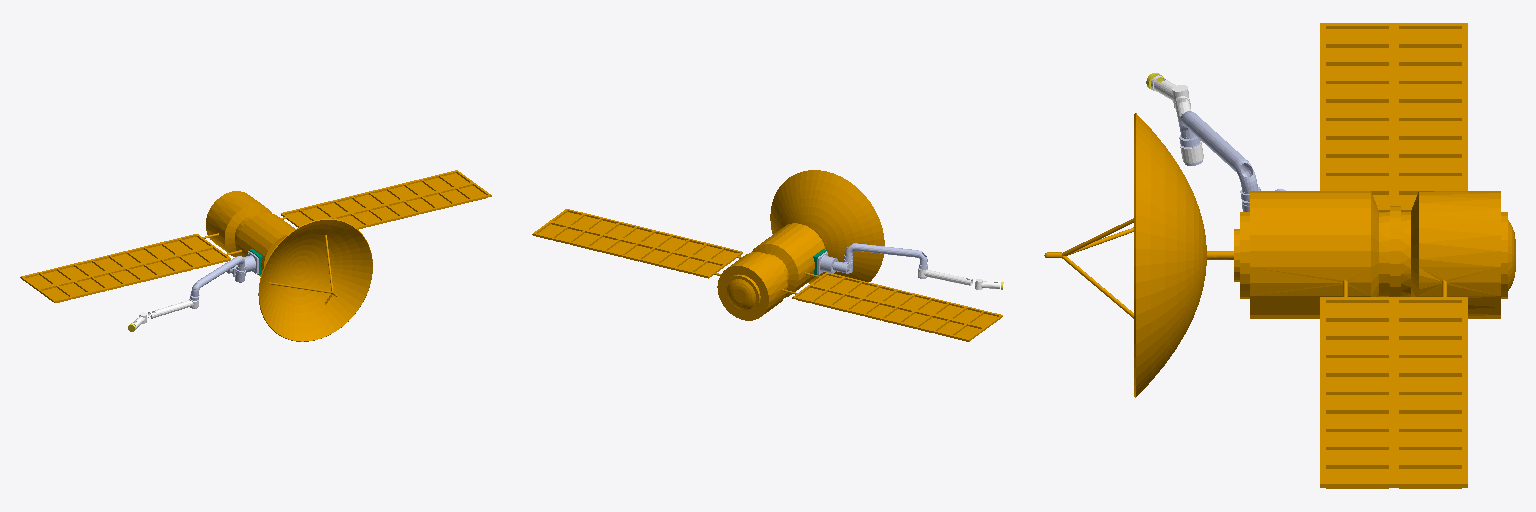
The robot description file, URDF, robot "satellite_14__starlink_sldasm9":
<?xml version='1.0' encoding='utf-8'?>
<robot name="satellite_14__starlink_sldasm9">
  <link name="base_link">
    <visual>
      <geometry>
        <mesh filename="../satellites/satellite_14/satellite.stl" />
      </geometry>
    </visual>
    <collision>
      <geometry>
        <mesh filename="../satellites/satellite_14/satellite.stl" />
      </geometry>
    </collision>
  </link>
  <link name="satellite_14_mount" />
  <joint name="satellite_mount_fixed" type="fixed">
    <parent link="base_link" />
    <child link="satellite_14_mount" />
    <origin xyz="-0.47098720948629275 -0.2859545646737885 0.0007778720686670624" rpy="0.005423569964189135 -1.5707963267948966 0.0" />
  </joint>
  <link name="mount_support">
    <visual>
      <geometry>
        <mesh filename="../satellites/satellite_14/mount_support.stl" />
      </geometry>
    </visual>
    <collision>
      <geometry>
        <mesh filename="../satellites/satellite_14/mount_support.stl" />
      </geometry>
    </collision>
  </link>
  <joint name="support_fixed" type="fixed">
    <parent link="satellite_14_mount" />
    <child link="mount_support" />
    <origin xyz="0 0 0" rpy="0 0 0" />
  </joint>
  <joint name="arm_adapter_fixed" type="fixed">
    <parent link="satellite_14_mount" />
    <child link="starlink_space_manipulator_base_link" />
    <origin xyz="0.009087204933166504 0.008519247174263 0.16000000119209298" rpy="-1.5707963267948966 0 0.0" />
  </joint>
  <link name="starlink_space_manipulator_base_link">
    <inertial>
      <origin xyz="-0.00908719924946466 0.0225428225681148 -0.00851924929637313" rpy="0 0 0" />
      <mass value="8.66024015898073" />
      <inertia ixx="0.0960303512697639" ixy="1.65511904636803E-18" ixz="6.22039820639877E-19" iyy="0.103454922260914" iyz="-9.68471289978311E-19" izz="0.0960303512697639" />
    </inertial>
    <visual>
      <origin xyz="0 0 0" rpy="0 0 0" />
      <geometry>
        <mesh filename="../arms/starlink_sldasm9/meshes/starlink_space_manipulator_base_link.STL" />
      </geometry>
      <material name="">
        <color rgba="0.792156862745098 0.819607843137255 0.933333333333333 1" />
      </material>
    </visual>
    <collision>
      <origin xyz="0 0 0" rpy="0 0 0" />
      <geometry>
        <mesh filename="../arms/starlink_sldasm9/meshes/starlink_space_manipulator_base_link.STL" />
      </geometry>
    </collision>
  </link>
  <link name="starlink_space_manipulator_Shoulder_link_1">
    <inertial>
      <origin xyz="-0.000399471745595769 -0.100006574194712 -0.17423940484461" rpy="0 0 0" />
      <mass value="5.16309216784981" />
      <inertia ixx="0.0524543852135592" ixy="0.00348154867667969" ixz="6.96526910910627E-05" iyy="0.0306595326318824" iyz="-0.00056674368052247" izz="0.0439979075615329" />
    </inertial>
    <visual>
      <origin xyz="0 0 0" rpy="0 0 0" />
      <geometry>
        <mesh filename="../arms/starlink_sldasm9/meshes/starlink_space_manipulator_Shoulder_link_1.STL" />
      </geometry>
      <material name="">
        <color rgba="0.792156862745098 0.819607843137255 0.933333333333333 1" />
      </material>
    </visual>
    <collision>
      <origin xyz="0 0 0" rpy="0 0 0" />
      <geometry>
        <mesh filename="../arms/starlink_sldasm9/meshes/starlink_space_manipulator_Shoulder_link_1.STL" />
      </geometry>
    </collision>
  </link>
  <joint name="starlink_space_manipulator_Shoulder_link_1_yaw" type="revolute">
    <origin xyz="-0.0090872 -0.065 -0.0085192" rpy="1.5708 -0.15574 3.1416" />
    <parent link="starlink_space_manipulator_base_link" />
    <child link="starlink_space_manipulator_Shoulder_link_1" />
    <axis xyz="0 0 -1" />
    <limit lower="-3.14" upper="3.14" effort="0" velocity="0" />
  </joint>
  <link name="starlink_space_manipulator_Upper_arm_Link_1">
    <inertial>
      <origin xyz="0.402106341472203 -0.696465272634528 -0.170177523085579" rpy="0 0 0" />
      <mass value="5.05309869040685" />
      <inertia ixx="0.388719013133801" ixy="0.210155896498943" ixz="9.30829370680679E-08" iyy="0.146049057575642" iyz="1.71830458004218E-07" izz="0.500677708275447" />
    </inertial>
    <visual>
      <origin xyz="0 0 0" rpy="0 0 0" />
      <geometry>
        <mesh filename="../arms/starlink_sldasm9/meshes/starlink_space_manipulator_Upper_arm_Link_1.STL" />
      </geometry>
      <material name="">
        <color rgba="0.792156862745098 0.819607843137255 0.933333333333333 1" />
      </material>
    </visual>
    <collision>
      <origin xyz="0 0 0" rpy="0 0 0" />
      <geometry>
        <mesh filename="../arms/starlink_sldasm9/meshes/starlink_space_manipulator_Upper_arm_Link_1.STL" />
      </geometry>
    </collision>
  </link>
  <joint name="starlink_space_manipulator_Upper_arm_Link_1_roll" type="revolute">
    <origin xyz="0 -0.2 -0.18" rpy="1.5708 0.90646 1.5708" />
    <parent link="starlink_space_manipulator_Shoulder_link_1" />
    <child link="starlink_space_manipulator_Upper_arm_Link_1" />
    <axis xyz="0 0 -1" />
    <limit lower="-2" upper="1.5" effort="0" velocity="0" />
  </joint>
  <link name="starlink_space_manipulator_Mid_arm_Link_1">
    <inertial>
      <origin xyz="-0.000406052776441013 0.317722269561105 0.0155331755135703" rpy="0 0 0" />
      <mass value="1.57635531881168" />
      <inertia ixx="0.133610363618846" ixy="5.33750993405138E-05" ixz="-3.60473795202962E-09" iyy="0.00502119434334708" iyz="-2.514275749911E-05" izz="0.134586018527477" />
    </inertial>
    <visual>
      <origin xyz="0 0 0" rpy="0 0 0" />
      <geometry>
        <mesh filename="../arms/starlink_sldasm9/meshes/starlink_space_manipulator_Mid_arm_Link_1.STL" />
      </geometry>
      <material name="">
        <color rgba="1 1 1 1" />
      </material>
    </visual>
    <collision>
      <origin xyz="0 0 0" rpy="0 0 0" />
      <geometry>
        <mesh filename="../arms/starlink_sldasm9/meshes/starlink_space_manipulator_Mid_arm_Link_1.STL" />
      </geometry>
    </collision>
  </link>
  <joint name="starlink_space_manipulator_Mid_arm_Link_1_roll" type="revolute">
    <origin xyz="0.599999999999673 -1.03923048454122 0" rpy="-3.14159265358979 0 0.828250280535091" />
    <parent link="starlink_space_manipulator_Upper_arm_Link_1" />
    <child link="starlink_space_manipulator_Mid_arm_Link_1" />
    <axis xyz="0 0 -1" />
    <limit lower="-3.14" upper="3.14" effort="0" velocity="0" />
  </joint>
  <link name="starlink_space_manipulator_Upper_wrist_Link_1">
    <inertial>
      <origin xyz="-0.000400003664721815 -0.201565878030355 -0.00216705855311664" rpy="0 0 0" />
      <mass value="0.994770641034713" />
      <inertia ixx="0.00165409639029414" ixy="-7.59103925411082E-06" ixz="-3.17403155320863E-06" iyy="0.00201437937768072" iyz="2.63246464091218E-06" izz="0.00159638838344539" />
    </inertial>
    <visual>
      <origin xyz="0 0 0" rpy="0 0 0" />
      <geometry>
        <mesh filename="../arms/starlink_sldasm9/meshes/starlink_space_manipulator_Upper_wrist_Link_1.STL" />
      </geometry>
      <material name="">
        <color rgba="0.792156862745098 0.819607843137255 0.933333333333333 1" />
      </material>
    </visual>
    <collision>
      <origin xyz="0 0 0" rpy="0 0 0" />
      <geometry>
        <mesh filename="../arms/starlink_sldasm9/meshes/starlink_space_manipulator_Upper_wrist_Link_1.STL" />
      </geometry>
    </collision>
  </link>
  <joint name="starlink_space_manipulator_Upper_wrist_Link_1_yaw" type="revolute">
    <origin xyz="-0.00050155183276912 0.686793643713439 0.0155010481432086" rpy="0 -0.0763876794035917 3.14159265358979" />
    <parent link="starlink_space_manipulator_Mid_arm_Link_1" />
    <child link="starlink_space_manipulator_Upper_wrist_Link_1" />
    <axis xyz="0 -1 0" />
    <limit lower="-3.14" upper="3.14" effort="0" velocity="0" />
  </joint>
  <link name="starlink_space_manipulator_Upper_wrist_Link_2">
    <inertial>
      <origin xyz="8.45304168883843E-08 0.0848318719623631 -0.00515657391755576" rpy="0 0 0" />
      <mass value="1.03716823037577" />
      <inertia ixx="0.0100970561498589" ixy="1.32295633551837E-09" ixz="-9.43675929999229E-09" iyy="0.00222325407426665" iyz="-2.08772874866187E-06" izz="0.0105840577017538" />
    </inertial>
    <visual>
      <origin xyz="0 0 0" rpy="0 0 0" />
      <geometry>
        <mesh filename="../arms/starlink_sldasm9/meshes/starlink_space_manipulator_Upper_wrist_Link_2.STL" />
      </geometry>
      <material name="">
        <color rgba="1 1 1 1" />
      </material>
    </visual>
    <collision>
      <origin xyz="0 0 0" rpy="0 0 0" />
      <geometry>
        <mesh filename="../arms/starlink_sldasm9/meshes/starlink_space_manipulator_Upper_wrist_Link_2.STL" />
      </geometry>
    </collision>
  </link>
  <joint name="starlink_space_manipulator_Upper_wrist_Link_2_roll" type="revolute">
    <origin xyz="0 -0.30020635628656 0" rpy="-0.0158640776811277 -0.0317448426184613 -2.67805461574742" />
    <parent link="starlink_space_manipulator_Upper_wrist_Link_1" />
    <child link="starlink_space_manipulator_Upper_wrist_Link_2" />
    <axis xyz="0 0 1" />
    <limit lower="-2.5" upper="1.8" effort="0" velocity="0" />
  </joint>
  <link name="starlink__space_manipulator_2F-Body_Link">
    </link>
  <joint name="starlink__space_manipulator_2F-Body_Link_yaw" type="revolute">
    <origin xyz="0 0.34845 -0.0053813" rpy="-3.1416 0.93592 0" />
    <parent link="starlink_space_manipulator_Upper_wrist_Link_2" />
    <child link="starlink__space_manipulator_2F-Body_Link" />
    <axis xyz="0 -1 0" />
    <limit lower="-3.14" upper="3.14" effort="0" velocity="0" />
  </joint>
  <link name="angular_hand">
    <visual>
      <geometry>
        <mesh filename="../arms/starlink_sldasm9/meshes/hand_2finger.STL" scale="2 2 2" />
      </geometry>
    </visual>
    <collision>
      <geometry>
        <mesh filename="../arms/starlink_sldasm9/meshes/hand_2finger.STL" scale="2 2 2" />
      </geometry>
    </collision>
  </link>
  <joint name="angular_hand_fixed" type="fixed">
    <parent link="starlink__space_manipulator_2F-Body_Link" />
    <child link="angular_hand" />
    <origin xyz="0 -0.036 0" rpy="-1.5707963267948966 0 0" />
  </joint>
  <link name="angular_adapter">
    <visual>
      <geometry>
        <mesh filename="../arms/starlink_sldasm9/meshes/angular_adapter.stl" />
      </geometry>
    </visual>
    <collision>
      <geometry>
        <mesh filename="../arms/starlink_sldasm9/meshes/angular_adapter.stl" />
      </geometry>
    </collision>
  </link>
  <joint name="angular_adapter_fixed" type="fixed">
    <parent link="starlink__space_manipulator_2F-Body_Link" />
    <child link="angular_adapter" />
    <origin xyz="0 -0.0005 0" rpy="1.5707963267948966 0 0" />
  </joint>
  <link name="angular_finger_1">
    <visual>
      <geometry>
        <mesh filename="../arms/starlink_sldasm9/meshes/finger_proximal.STL" scale="2 2 2" />
      </geometry>
    </visual>
    <collision>
      <geometry>
        <mesh filename="../arms/starlink_sldasm9/meshes/finger_proximal.STL" scale="2 2 2" />
      </geometry>
    </collision>
  </link>
  <link name="angular_tip_1">
    <visual>
      <geometry>
        <mesh filename="../arms/starlink_sldasm9/meshes/finger_distal.STL" scale="2 2 2" />
      </geometry>
    </visual>
    <collision>
      <geometry>
        <mesh filename="../arms/starlink_sldasm9/meshes/finger_distal.STL" scale="2 2 2" />
      </geometry>
    </collision>
  </link>
  <joint name="angular_joint_1" type="revolute">
    <parent link="angular_hand" />
    <child link="angular_finger_1" />
    <axis xyz="0 0 1" />
    <origin xyz="-0.005 0.0619 -0.22964" rpy="-1.570796327 .649262481663582 1.5707963267948966" />
    <limit lower="0" upper="1.51" effort="2" velocity="1" />
  </joint>
  <joint name="angular_joint_tip_1" type="revolute">
    <parent link="angular_finger_1" />
    <child link="angular_tip_1" />
    <axis xyz="0 0 1" />
    <origin xyz="0.088 -0.006 0.0" rpy="0 0 0" />
    <limit lower="0" upper="2" effort="2" velocity="1" />
  </joint>
  <link name="angular_finger_2">
    <visual>
      <geometry>
        <mesh filename="../arms/starlink_sldasm9/meshes/finger_proximal.STL" scale="2 2 2" />
      </geometry>
    </visual>
    <collision>
      <geometry>
        <mesh filename="../arms/starlink_sldasm9/meshes/finger_proximal.STL" scale="2 2 2" />
      </geometry>
    </collision>
  </link>
  <link name="angular_tip_2">
    <visual>
      <geometry>
        <mesh filename="../arms/starlink_sldasm9/meshes/finger_distal.STL" scale="2 2 2" />
      </geometry>
    </visual>
    <collision>
      <geometry>
        <mesh filename="../arms/starlink_sldasm9/meshes/finger_distal.STL" scale="2 2 2" />
      </geometry>
    </collision>
  </link>
  <joint name="angular_joint_2" type="revolute">
    <parent link="angular_hand" />
    <child link="angular_finger_2" />
    <axis xyz="0 0 1" />
    <origin xyz="-0.005 -0.0619 -0.22964" rpy="-1.570796327 .649262481663582 -1.5707963267948966" />
    <limit lower="0" upper="1.51" effort="2" velocity="1" />
  </joint>
  <joint name="angular_joint_tip_2" type="revolute">
    <parent link="angular_finger_2" />
    <child link="angular_tip_2" />
    <axis xyz="0 0 1" />
    <origin xyz="0.088 -0.006 0.0" rpy="0 0 0" />
    <limit lower="0" upper="2" effort="2" velocity="1" />
  </joint>
  <link name="angular_tcp" />
  <joint name="angular_tcp_fixed" type="fixed">
    <parent link="angular_hand" />
    <child link="angular_tcp" />
    <origin xyz="-0.005 0 -0.34" rpy="3.141592653589793 0 0" />
  </joint>
</robot>

--- Facts derived from the render (not from the file) ---
Views: 3 orthographic renders of the robot side by side, from view 1: azimuth 30°, elevation 25°; view 2: azimuth 150°, elevation 25°; view 3: azimuth 270°, elevation 25°.
Model satellite_14__starlink_sldasm9 with 17 links and 16 joints (10 revolute, 6 fixed), rooted at base_link, posed all joints at 0.
Links seen in each view (by area): view 1: base_link, starlink_space_manipulator_Upper_arm_Link_1; view 2: base_link, starlink_space_manipulator_Upper_arm_Link_1; view 3: base_link, starlink_space_manipulator_Upper_arm_Link_1, starlink_space_manipulator_Mid_arm_Link_1, starlink_space_manipulator_Upper_wrist_Link_2.
Link boxes in pixels (x1,y1,x2,y2): base_link: (20,170,491,341); starlink_space_manipulator_Upper_arm_Link_1: (190,256,244,308); base_link: (532,170,1002,341); starlink_space_manipulator_Upper_arm_Link_1: (845,243,927,278); base_link: (1044,23,1515,488); starlink_space_manipulator_Upper_arm_Link_1: (1179,111,1257,193); starlink_space_manipulator_Mid_arm_Link_1: (1174,96,1203,163); starlink_space_manipulator_Upper_wrist_Link_2: (1151,75,1189,107).
Bounding box of the posed robot: 8 × 3.46 × 2.1 m (x, y, z).
8 mesh visuals loaded from 12 distinct referenced files (8 binary STL); not drawn: 6 (reference not matched to a file when rendering).
